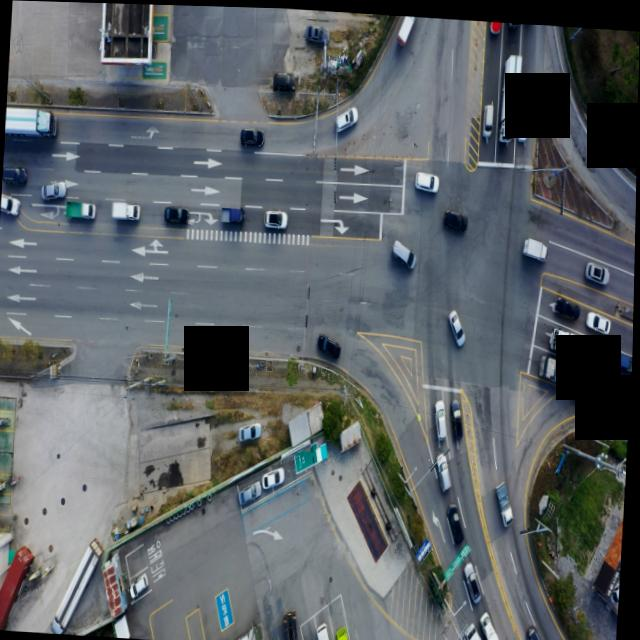car: (462, 556, 484, 601), (445, 500, 465, 544), (391, 237, 417, 268), (334, 104, 358, 134), (436, 449, 453, 490), (317, 332, 342, 358), (552, 293, 579, 317), (434, 395, 449, 437), (448, 307, 465, 344), (238, 480, 261, 507), (450, 395, 464, 438), (238, 419, 264, 442), (607, 378, 633, 401), (262, 464, 286, 488), (585, 306, 610, 329), (413, 169, 438, 191), (584, 259, 609, 281), (442, 208, 468, 229), (1, 164, 27, 185), (129, 572, 149, 599), (303, 22, 328, 43), (42, 181, 67, 201), (238, 126, 263, 146), (518, 97, 530, 138), (164, 204, 189, 223), (264, 208, 287, 228), (259, 204, 282, 224), (526, 620, 548, 640), (271, 69, 294, 88), (0, 195, 19, 215), (482, 100, 492, 135), (489, 17, 501, 32)
medium_truck: (51, 533, 103, 633), (547, 324, 620, 372), (538, 349, 606, 396), (495, 49, 519, 139), (4, 106, 55, 139), (280, 607, 299, 640), (465, 619, 493, 640)
small_bus: (317, 619, 338, 640)
small_truck: (495, 478, 516, 524), (481, 608, 505, 640), (109, 199, 141, 221), (521, 233, 549, 258), (65, 198, 96, 219), (395, 12, 414, 44), (217, 204, 243, 224), (617, 345, 634, 368), (335, 624, 353, 640)
